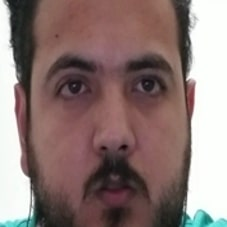drowsy: (41, 47, 177, 211)
